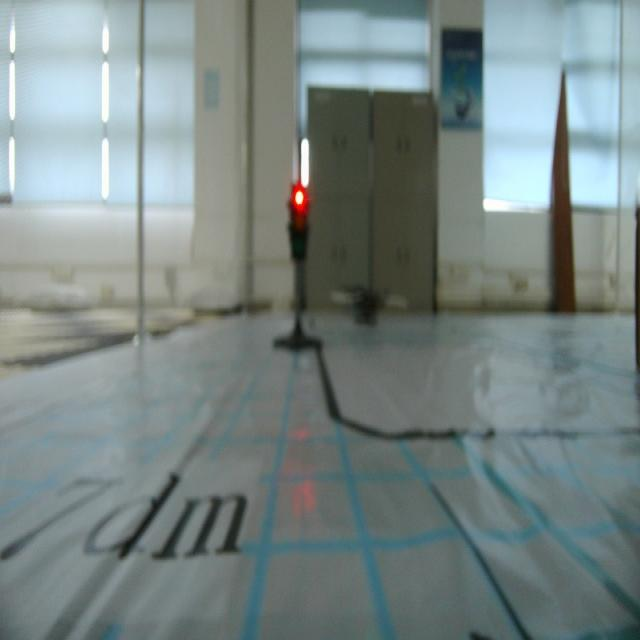red: (287, 181, 311, 265)
